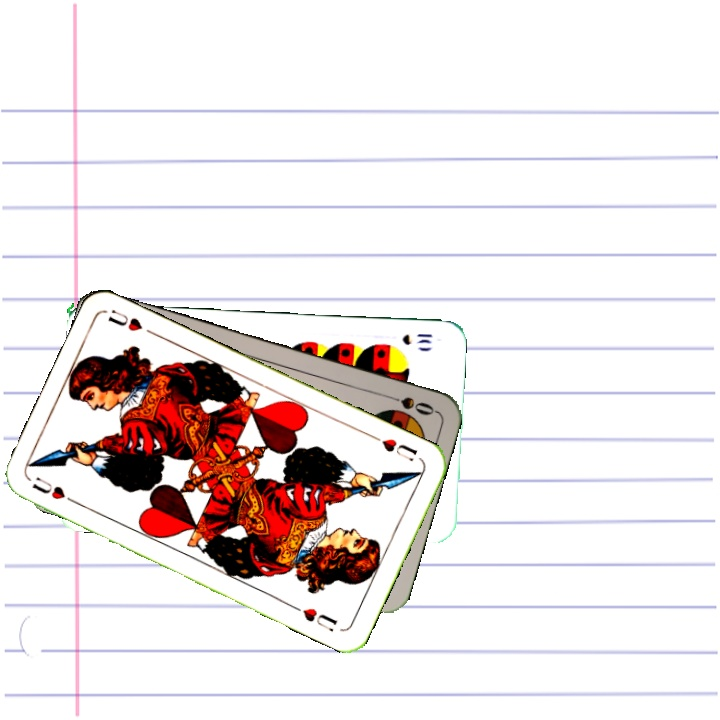HU: (28, 473, 82, 508), (368, 431, 420, 464)
S10: (398, 330, 435, 347)
SO: (379, 389, 437, 418)
